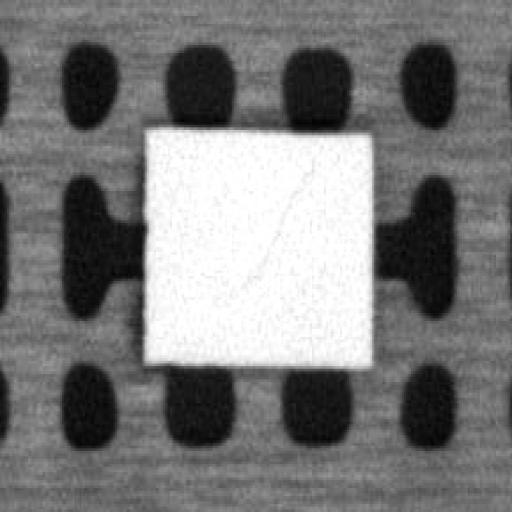DIE_CRACK: (243, 154, 322, 284)
